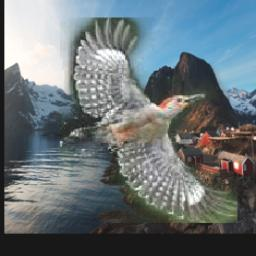Woodpecker: (61, 18, 239, 224)
